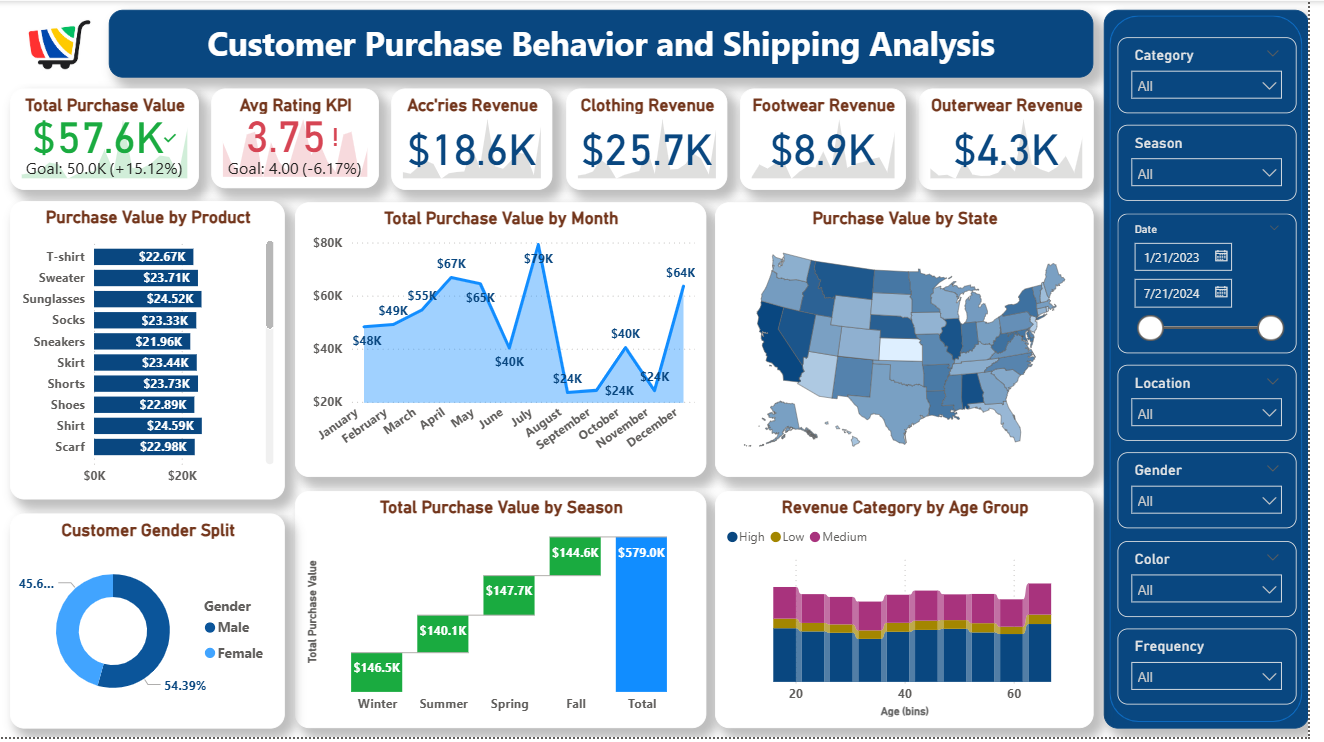

What the dashboard file says about the page in this screenshot:
{"tool":"powerbi","page":{"name":"Dashboard 1","canvas":[1280,720],"ordinal":0},"visuals":[{"type":"textbox","box":[106.4,8.6,963.6,66],"z":0},{"type":"shape","box":[1079.8,8.6,200.5,703.1],"z":1000},{"type":"kpi","title":"Total Purchase Value","fields":{"Indicator":["Measures Table.Total Purchase Value"],"TrendLine":["Data.Date"],"Goal":["Measures Table.Target Purchase Value"]},"box":[9.8,85.5,184.6,99],"z":2000},{"type":"kpi","title":"Avg Rating KPI","fields":{"TrendLine":["Data.Date"],"Indicator":["Measures Table.Avg Rating"],"Goal":["Measures Table.Target Avg Rating"]},"box":[206.9,86.1,163.9,97.8],"z":3000},{"type":"kpi","title":"Acc''ries Revenue","fields":{"Indicator":["Measures Table.Total Purchase Value"],"TrendLine":["Data.Date"]},"box":[383.2,85.5,157.7,99],"z":4000},{"type":"kpi","title":"Outerwear Revenue","fields":{"Indicator":["Measures Table.Total Purchase Value"],"TrendLine":["Data.Date"]},"box":[898.8,85.5,171.2,99],"z":5000},{"type":"kpi","title":"Clothing Revenue","fields":{"Indicator":["Measures Table.Total Purchase Value"],"TrendLine":["Data.Date"]},"box":[553.5,85.5,157.7,99],"z":6000},{"type":"kpi","title":"Footwear Revenue","fields":{"Indicator":["Measures Table.Total Purchase Value"],"TrendLine":["Data.Date"]},"box":[723.7,85.5,162.6,99],"z":7000},{"type":"image","box":[9.8,0,96.6,85.6],"z":8000},{"type":"clusteredBarChart","title":"Purchase Value by Product","fields":{"Category":["Data.Item Purchased"],"Y":["Measures Table.Total Purchase Value"]},"box":[9.8,195.7,269,292.3],"z":9000},{"type":"areaChart","fields":{"Category":["Data.Date.Variation.Date Hierarchy.Month"],"Y":["Measures Table.Total Purchase Value"]},"box":[288.6,196.9,402.3,269],"z":10000},{"type":"waterfallChart","fields":{"Category":["Data.Season"],"Y":["Measures Table.Total Purchase Value"]},"box":[288.6,479.4,402.3,232.3],"z":11000},{"type":"shapeMap","title":"Purchase Value by State","fields":{"Value":["Measures Table.Total Purchase Value"],"Category":["Data.Location"]},"box":[699.5,196.9,370.5,269],"z":12000},{"type":"slicer","fields":{"Values":["Data.Category"]},"box":[1093.2,35.5,174.9,74.6],"z":13000},{"type":"slicer","fields":{"Values":["Data.Season"]},"box":[1093.2,121.6,174.9,74.6],"z":14000},{"type":"donutChart","title":"Customer Gender Split","fields":{"Category":["Data.Gender"],"Y":["Measures Table.Count of customers"]},"box":[9.8,501.4,269,210.3],"z":15000},{"type":"slicer","fields":{"Values":["Data.Date"]},"box":[1093.2,207.6,174.9,137],"z":16000},{"type":"slicer","fields":{"Values":["Data.Color"]},"box":[1093.2,528.1,174.9,74.6],"z":17000},{"type":"slicer","fields":{"Values":["Data.Gender"]},"box":[1093.2,442,174.9,74.6],"z":18000},{"type":"slicer","fields":{"Values":["Data.Location"]},"box":[1093.2,356,174.9,74.6],"z":19000},{"type":"columnChart","title":"Revenue Category by Age Group","fields":{"Category":["Data.Age (bins)"],"Y":["Measures Table.Total Purchase Value"],"Series":["Data.Purchase Category"]},"box":[699.5,479.4,370.5,232.3],"z":20000},{"type":"slicer","fields":{"Values":["Data.Frequency of Purchases"]},"box":[1093.2,614.1,174.9,74.6],"z":21000}]}

Visuals, with their boxes in screenshot pixels (x1, y1, x2, y2), scaled from the page's 1280x720 canvas onto the 1324x742 screenshot:
textbox: x1=110 y1=9 x2=1107 y2=77
shape: x1=1117 y1=9 x2=1323 y2=733
"Total Purchase Value" kpi: x1=10 y1=88 x2=201 y2=190
"Avg Rating KPI" kpi: x1=214 y1=89 x2=384 y2=190
"Acc''ries Revenue" kpi: x1=396 y1=88 x2=559 y2=190
"Outerwear Revenue" kpi: x1=930 y1=88 x2=1107 y2=190
"Clothing Revenue" kpi: x1=573 y1=88 x2=736 y2=190
"Footwear Revenue" kpi: x1=749 y1=88 x2=917 y2=190
image: x1=10 y1=0 x2=110 y2=88
"Purchase Value by Product" clusteredBarChart: x1=10 y1=202 x2=288 y2=503
areaChart - Data.Date.Variation.Date Hierarchy.Month x Measures Table.Total Purchase Value: x1=299 y1=203 x2=715 y2=480
waterfallChart - Data.Season x Measures Table.Total Purchase Value: x1=299 y1=494 x2=715 y2=733
"Purchase Value by State" shapeMap: x1=724 y1=203 x2=1107 y2=480
slicer - Data.Category: x1=1131 y1=37 x2=1312 y2=113
slicer - Data.Season: x1=1131 y1=125 x2=1312 y2=202
"Customer Gender Split" donutChart: x1=10 y1=517 x2=288 y2=733
slicer - Data.Date: x1=1131 y1=214 x2=1312 y2=355
slicer - Data.Color: x1=1131 y1=544 x2=1312 y2=621
slicer - Data.Gender: x1=1131 y1=456 x2=1312 y2=532
slicer - Data.Location: x1=1131 y1=367 x2=1312 y2=444
"Revenue Category by Age Group" columnChart: x1=724 y1=494 x2=1107 y2=733
slicer - Data.Frequency of Purchases: x1=1131 y1=633 x2=1312 y2=710
